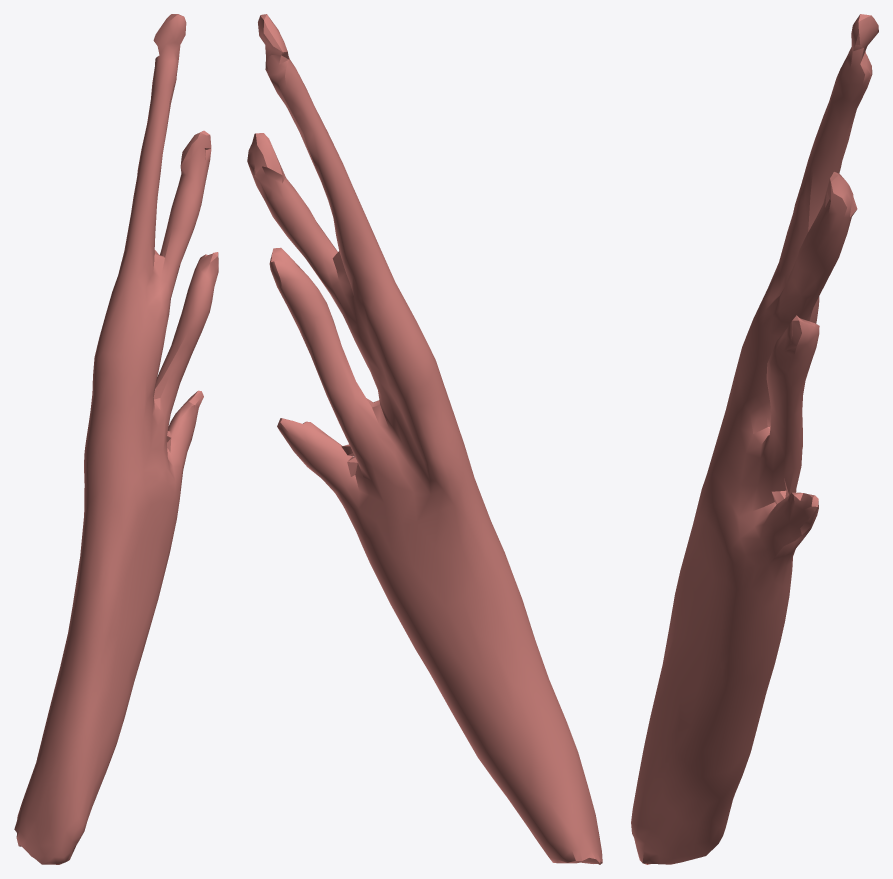
File: fma13392_mm1294m.glb
3 views of the same model, side by side, from view 1: azimuth 30°, elevation 25°; view 2: azimuth 150°, elevation 25°; view 3: azimuth 270°, elevation 25° (orthographic). The views are drawn at different scales.
Parts seen in each view (by area): view 1: FMA13392_MM1294M; view 2: FMA13392_MM1294M; view 3: FMA13392_MM1294M.
Boxes of the visible parts, x1,y1,x2,y2 form: FMA13392_MM1294M: [14, 14, 218, 864]; FMA13392_MM1294M: [247, 14, 602, 864]; FMA13392_MM1294M: [631, 14, 878, 864].
Bounding box in the file's own units: 0.0367 × 0.1055 × 0.0243.
